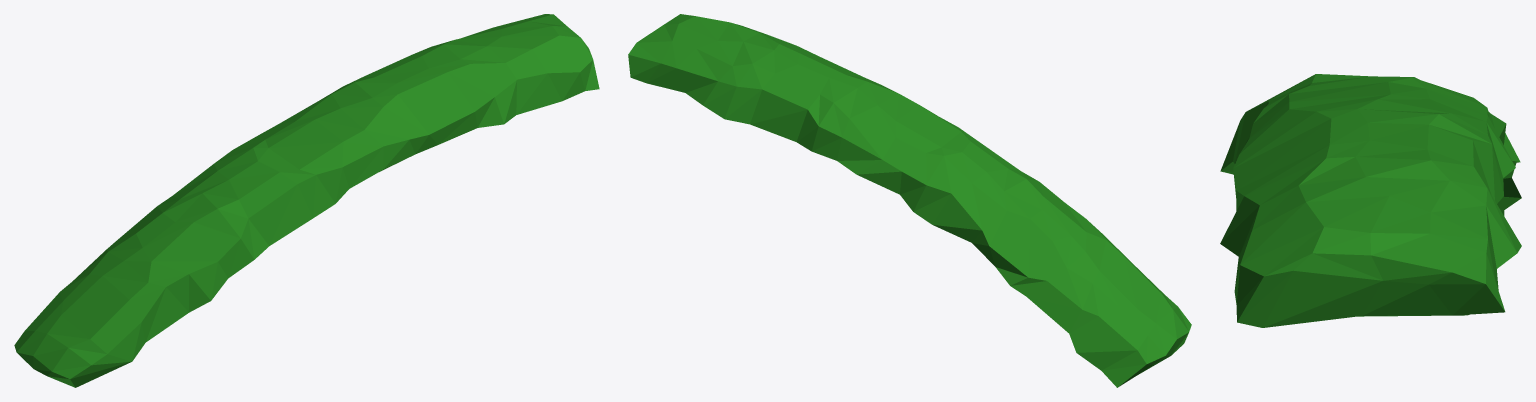
Rendered from o_decal_largecurve1.FBX.
3 renders of one model, left to right at view 1: azimuth 30°, elevation 25°; view 2: azimuth 150°, elevation 25°; view 3: azimuth 270°, elevation 25°, orthographic. The views are drawn at different scales.
Parts seen in each view (by area): view 1: O_GrassCurve_Large1; view 2: O_GrassCurve_Large1; view 3: O_GrassCurve_Large1.
Part boxes in pixels (left/top/right/bottom): O_GrassCurve_Large1: left=14, top=14, right=599, bottom=387; O_GrassCurve_Large1: left=628, top=14, right=1191, bottom=387; O_GrassCurve_Large1: left=1220, top=74, right=1521, bottom=327.
Size of the model in its own units: 723 by 298 by 181.
